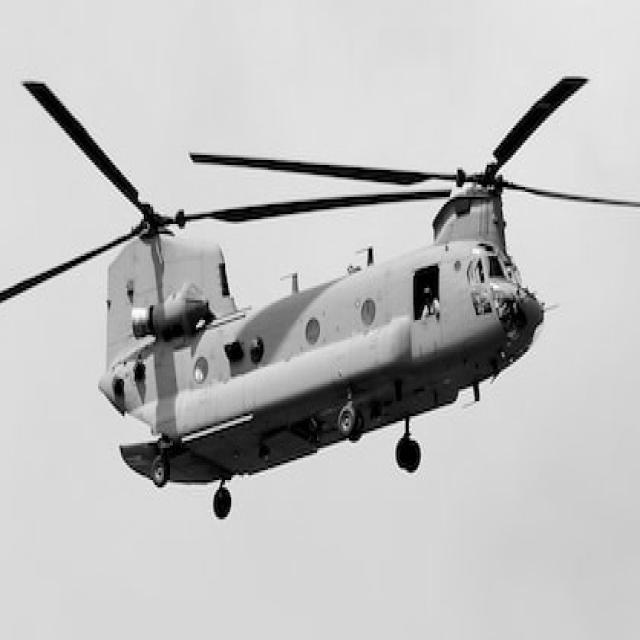helicopter: (1, 77, 640, 471)
